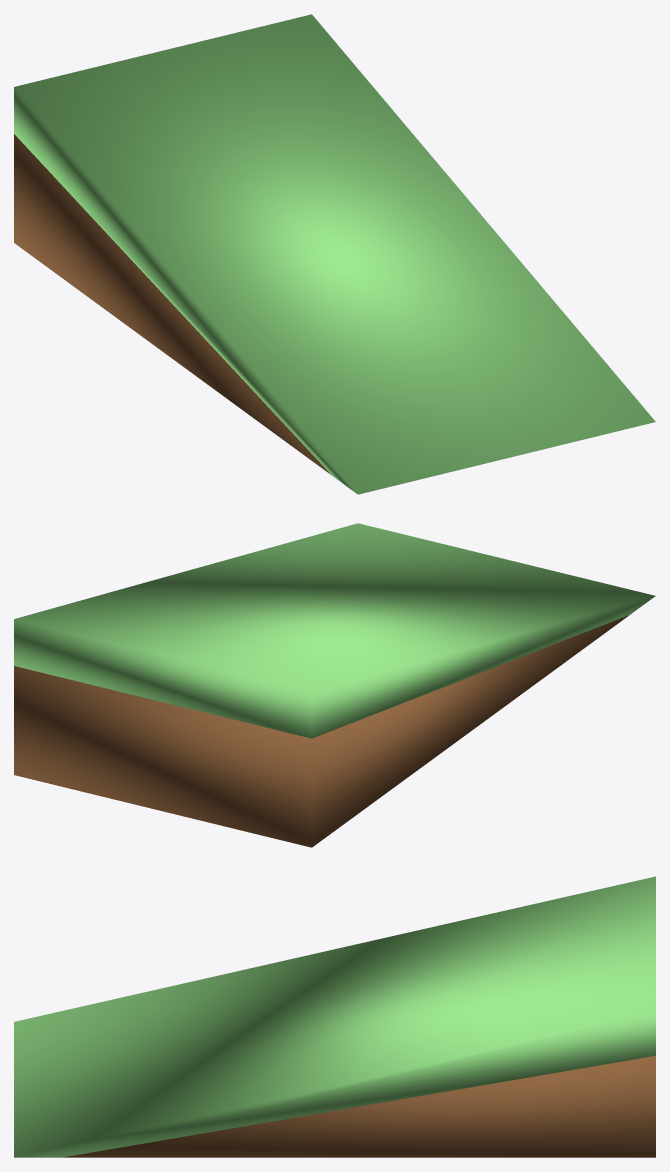
File: Ramp - 0.5x2.glb
3 renders of one model, top to bottom at view 1: azimuth 30°, elevation 25°; view 2: azimuth 150°, elevation 25°; view 3: azimuth 270°, elevation 25°, orthographic. The views are drawn at different scales.
Parts seen in each view (by area): view 1: Ramp 0.5x2; view 2: Ramp 0.5x2; view 3: Ramp 0.5x2.
Boxes of the visible parts, x1=… form: Ramp 0.5x2: x1=14, y1=14, x2=655, y2=494; Ramp 0.5x2: x1=14, y1=523, x2=655, y2=847; Ramp 0.5x2: x1=14, y1=876, x2=655, y2=1157.
Bounding box in the file's own units: 2 × 1 × 4.
